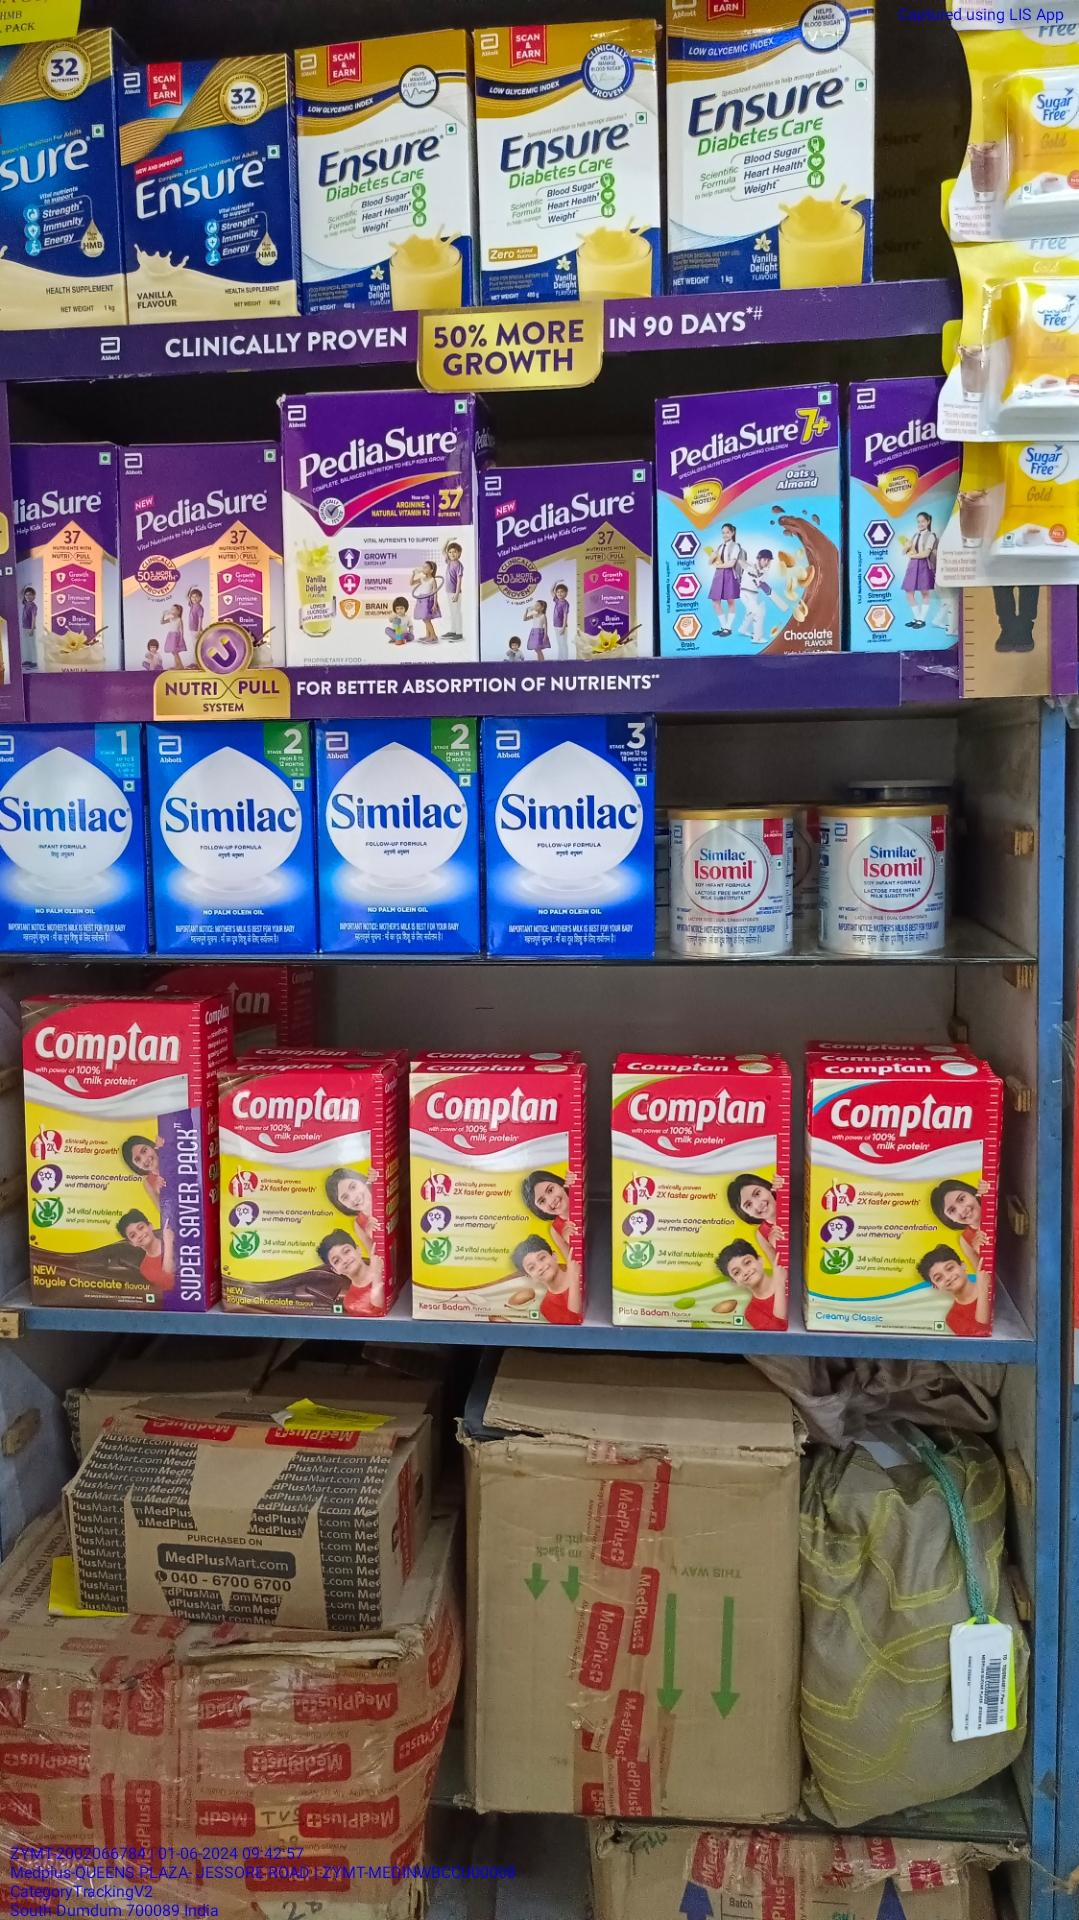COMPLAN_CHOCOLATE_200_GMS_PACK: (207, 1072, 386, 1317)
COMPLAN_CHOCOLATE_500_GMS_JAR: (22, 1006, 204, 1316)
COMPLAN_CREAMY_CLASSIC_500_G_PACK: (811, 1085, 1004, 1335)
COMPLAN_KESAR_BADAM_500_GMS_PACK: (412, 1075, 583, 1324)
COMPLAN_PISTA_BADAM_500_GMS_PACK: (613, 1075, 793, 1331)
ENSURE_VANILLA_400_G_PACK: (120, 63, 282, 322)
PEDIASURE_VANILLA_500_G_PACK: (120, 448, 285, 670), (480, 467, 657, 658)
